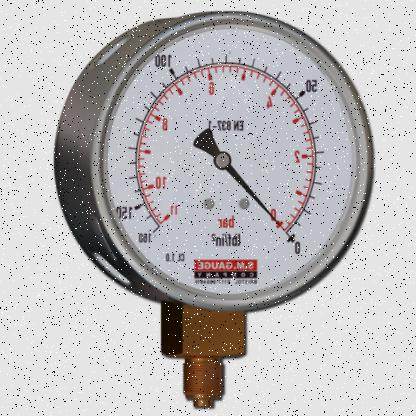needle: (225, 164, 281, 227)
